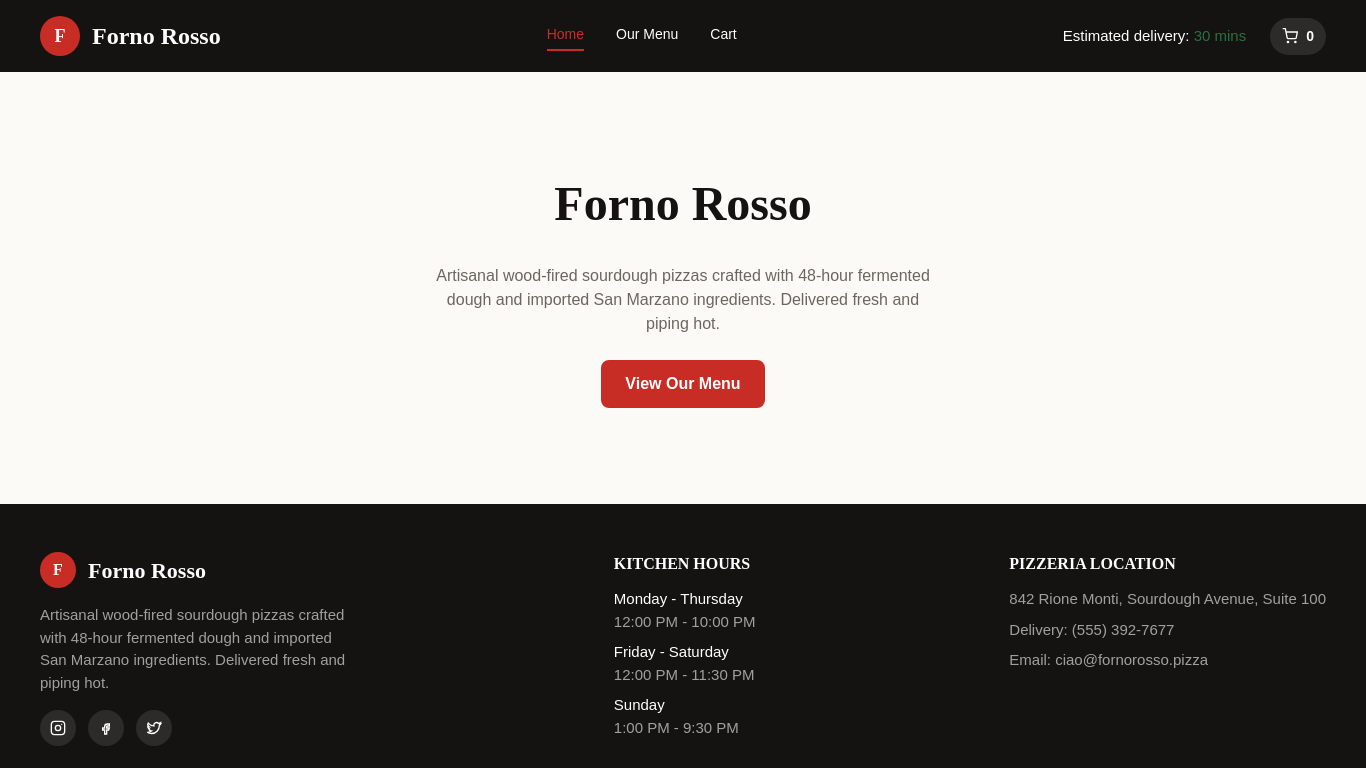
Test: App routing › navigates to the menu page when 'Our Menu' nav link is clicked
What coordinates should you click on to do the following:
click the link "Our Menu"
I would click on:
 (647, 36)
Its box is [616,24,678,48].
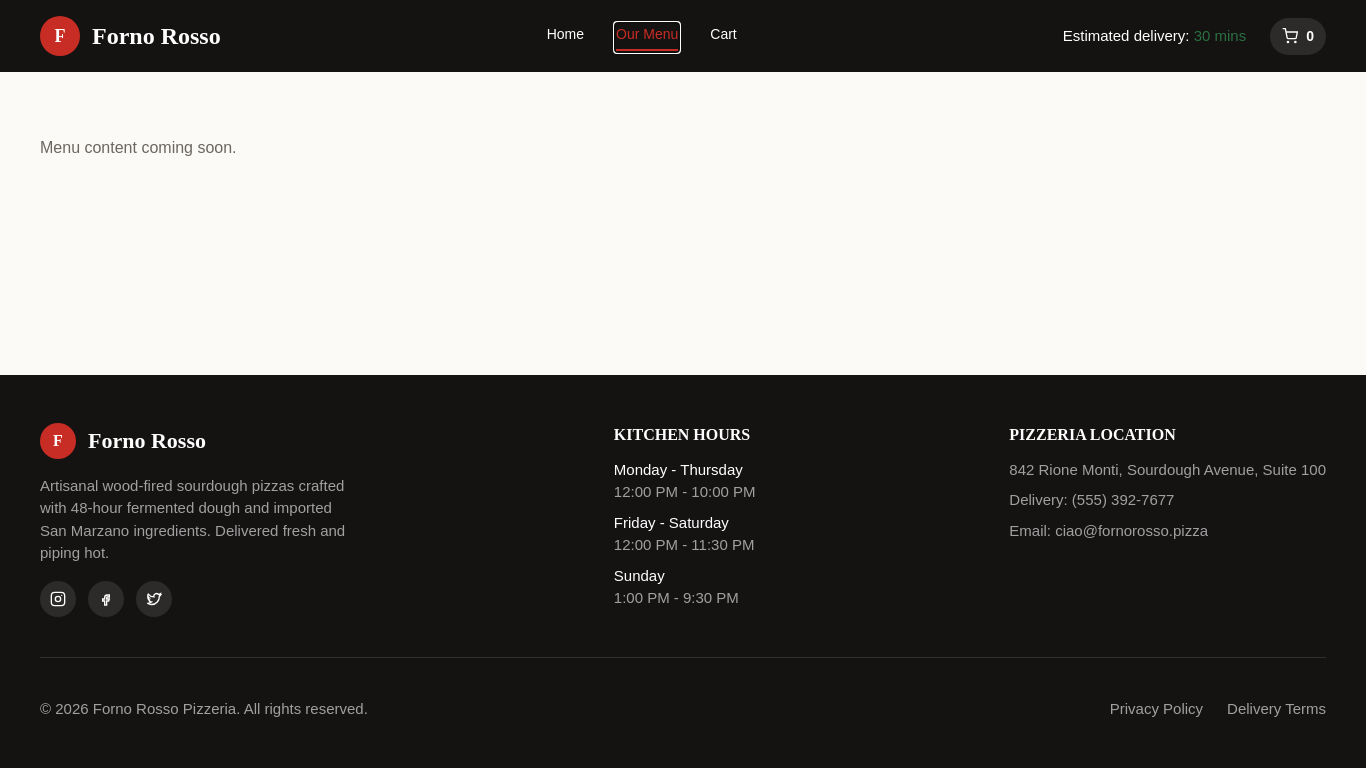
Now the element with test id "menu-page" is shown, box [40,139,237,156]
